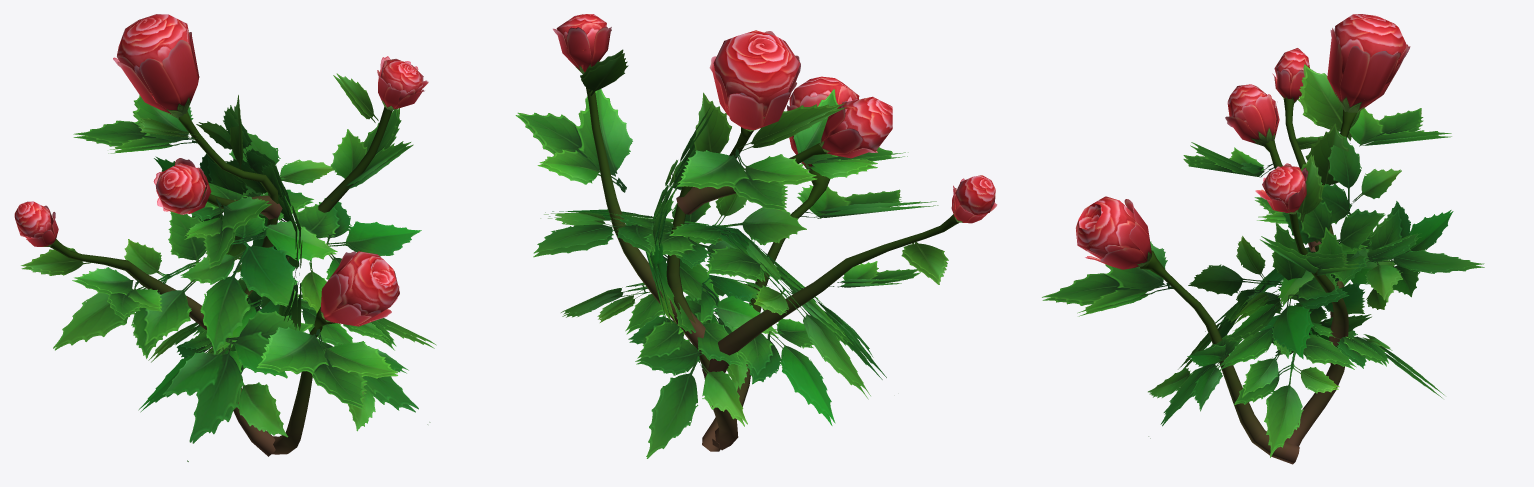
Rendered from SE_Rose_05.fbx.
The picture shows the model from 3 angles, left to right: view 1: azimuth 30°, elevation 25°; view 2: azimuth 150°, elevation 25°; view 3: azimuth 270°, elevation 25°; orthographic projection. The views are drawn at different scales.
Visible parts, largest first — view 1: SE_Rose_05; view 2: SE_Rose_05; view 3: SE_Rose_05.
Boxes of the visible parts, x1,y1,x2,y2 form: SE_Rose_05: (14,14,436,461); SE_Rose_05: (515,14,997,458); SE_Rose_05: (1042,14,1484,464).
Bounding box in the file's own units: 2.92 × 2.74 × 2.99.
